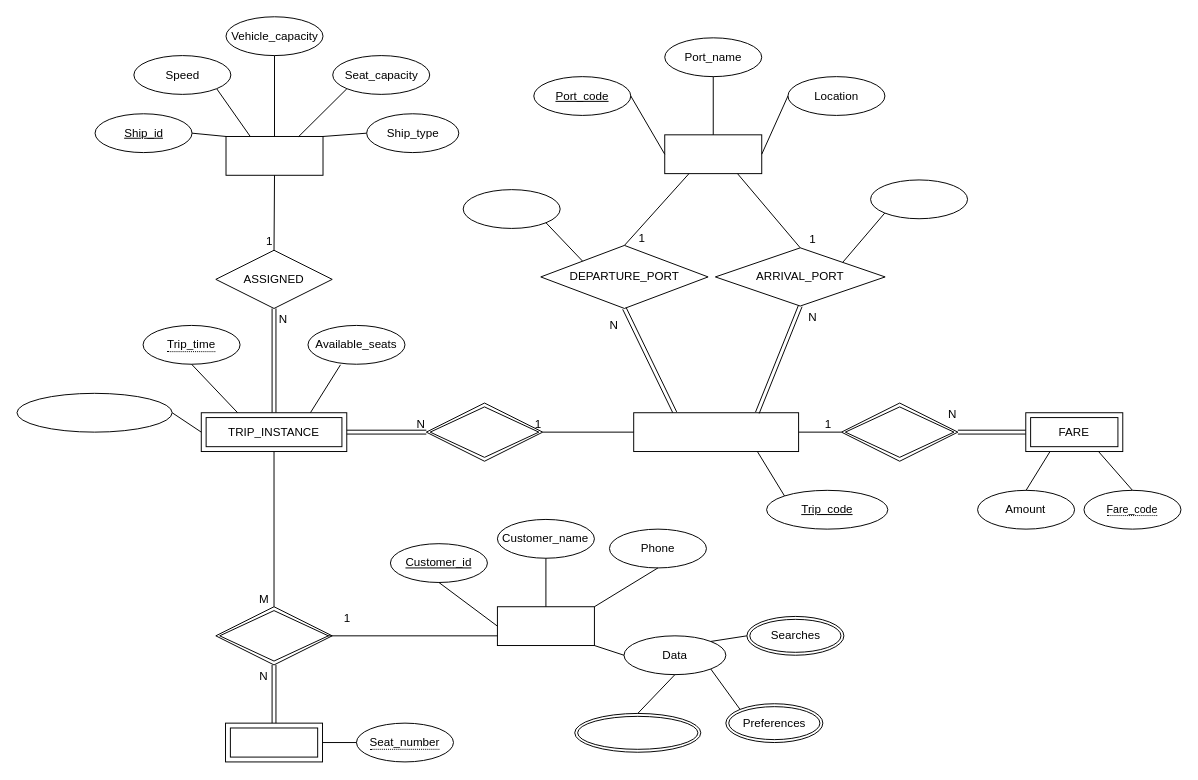
Some shapes in this 1198 by 780 pixel diagram are drawn without their labels. Here are the shapes that lost their labels. From the top down, the centre of each, then its label:
point (274, 155): SHIP
point (713, 154): PORT
point (511, 208): Dep_time
point (919, 199): Arr_time
point (94, 412): Available_vehicle_capacity
point (484, 431): INSTANCE_OF
point (716, 432): SCHEDULED_IDO_TRIPS
point (899, 431): HAS
point (273, 635): RESERVATION
point (545, 626): CUSTOMER
point (274, 742): SEAT
point (637, 732): Transportation_history
